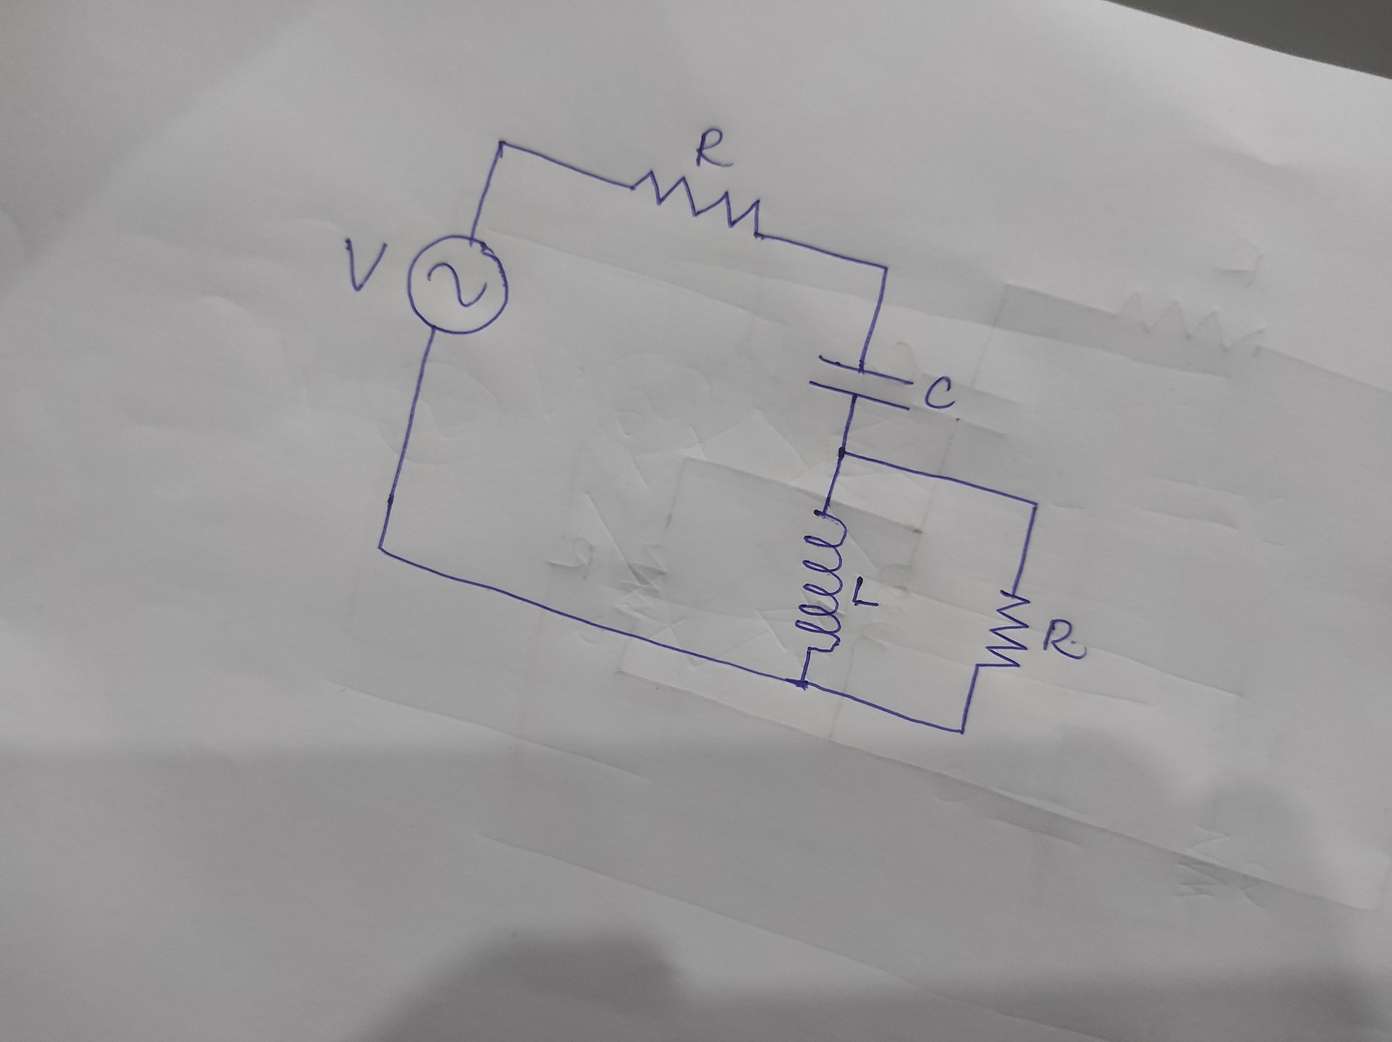capacitor.unpolarized: (807, 352, 917, 412)
inductor: (791, 503, 850, 655)
junction: (785, 674, 815, 691), (490, 134, 512, 155), (832, 441, 852, 464), (1024, 496, 1042, 517), (875, 260, 893, 277), (952, 723, 970, 738), (374, 539, 388, 555)
resistor: (630, 167, 764, 240), (970, 587, 1034, 669)
text: (340, 235, 388, 293), (1040, 614, 1089, 661), (689, 125, 736, 171), (921, 372, 956, 414), (850, 574, 883, 609)
voltage.dc_ac: (403, 232, 512, 336)
